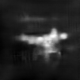plane: (14, 27, 70, 60)
